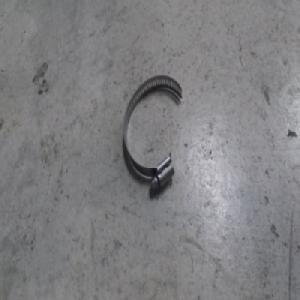AdjustableClamp: (122, 75, 186, 192)
